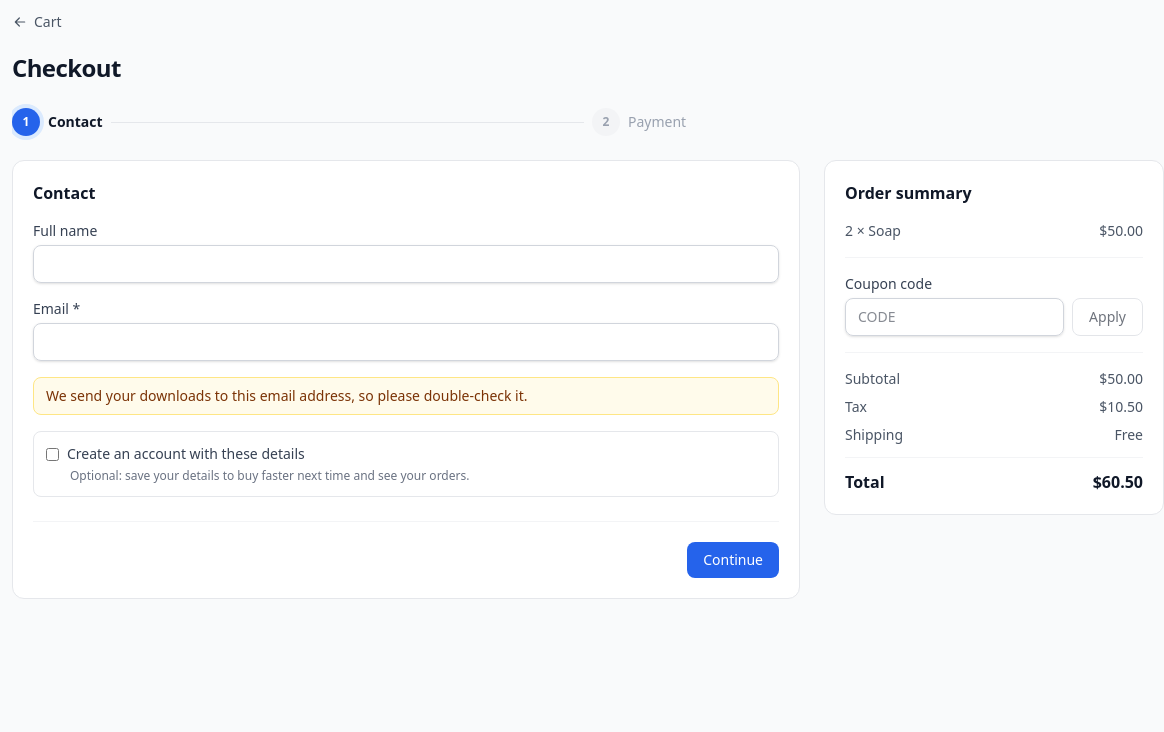
Test: digital store › skips the delivery step: contact goes straight to payment
Expected: the heading "Contact" is shown, x1=33 y1=182 x2=95 y2=204
In the field labelled "Full name": (406, 264) x1=33 y1=245 x2=779 y2=283, type "Bea Compradora"
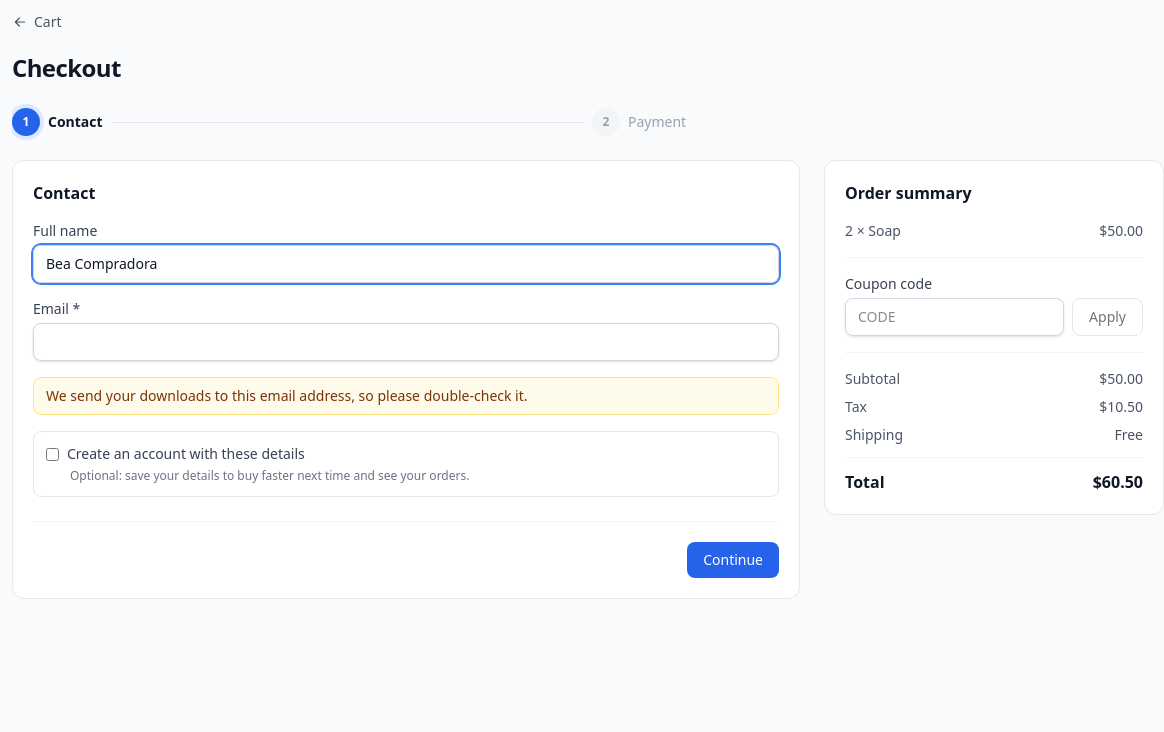
In the field labelled "Email *": (406, 342) x1=33 y1=323 x2=779 y2=361, type "bea@example.com"
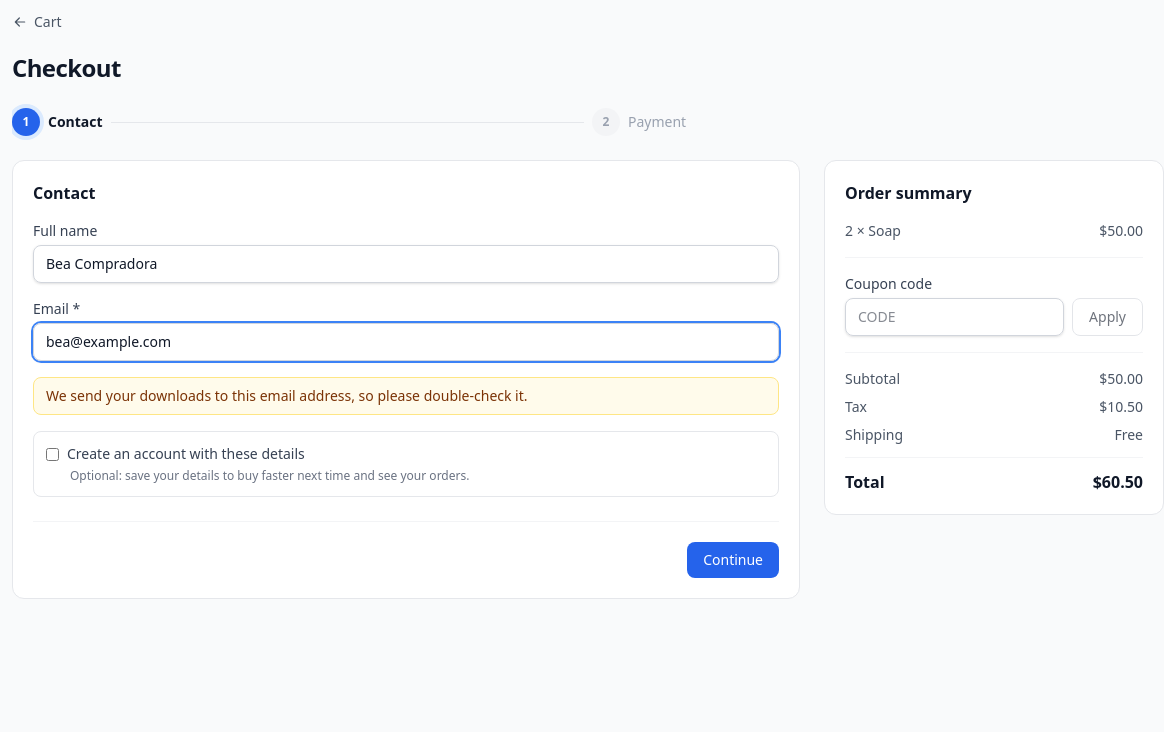
Click the button "Continue": (733, 560) x1=687 y1=542 x2=779 y2=578
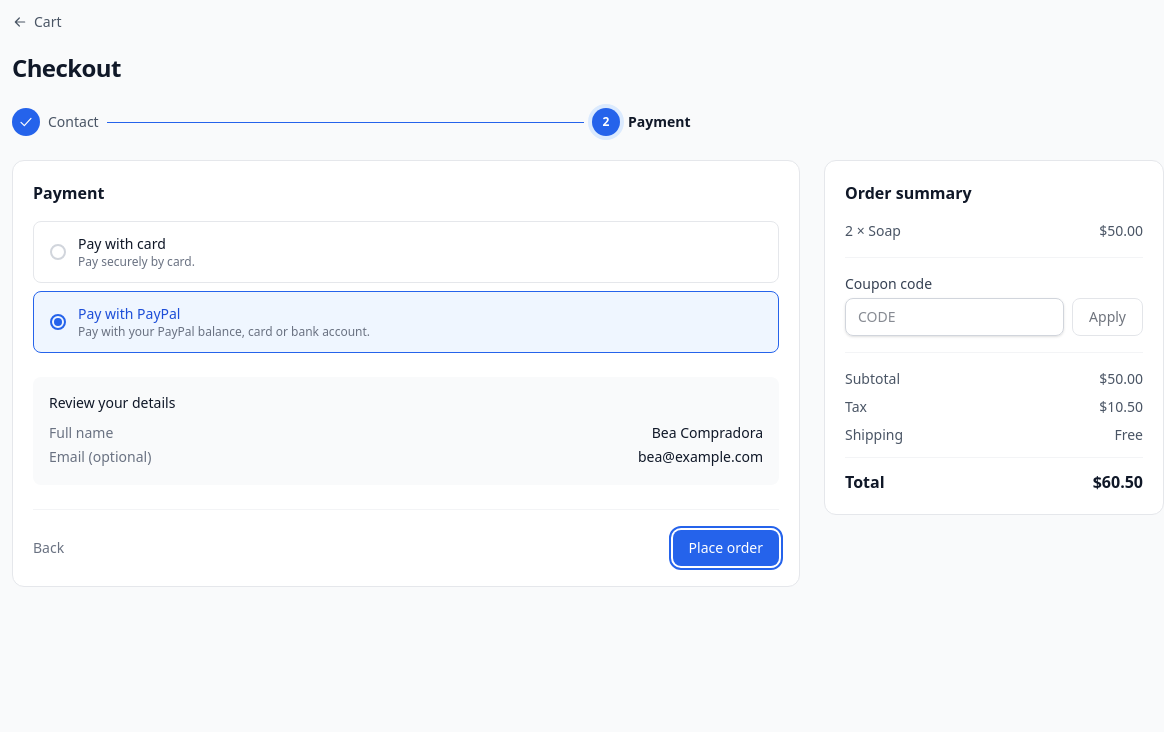
Expected: the heading "Payment" is shown, x1=33 y1=182 x2=104 y2=204
